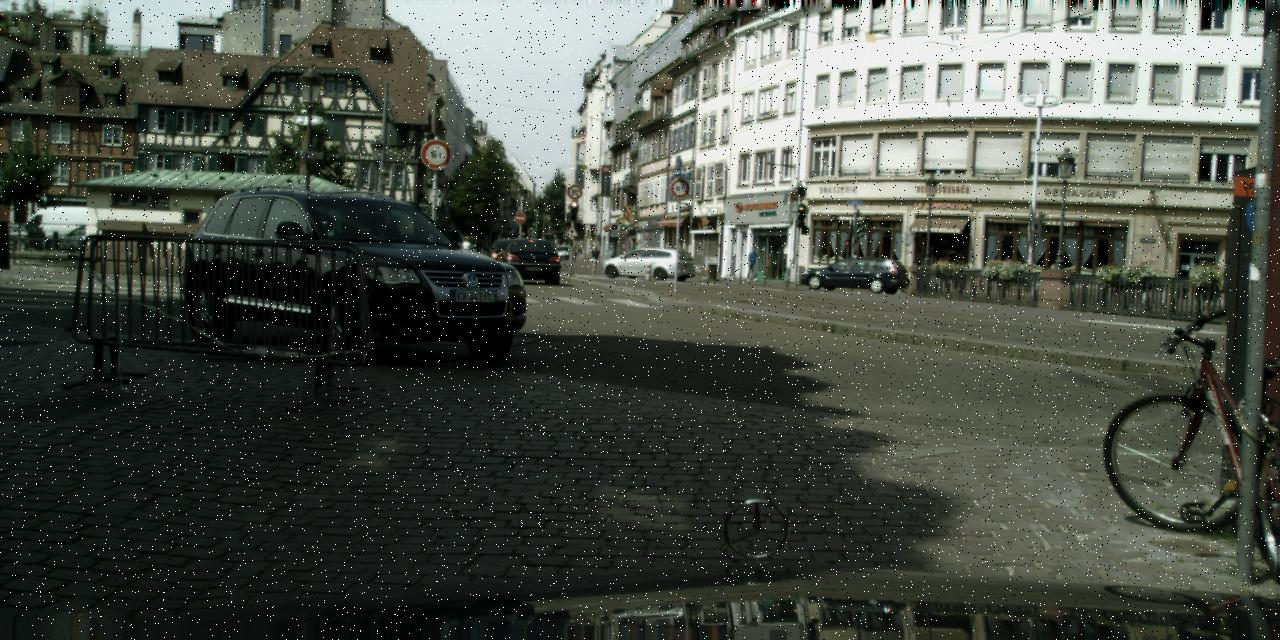ped: (745, 246, 759, 281), (461, 235, 472, 264), (590, 246, 598, 267), (572, 245, 578, 261)
